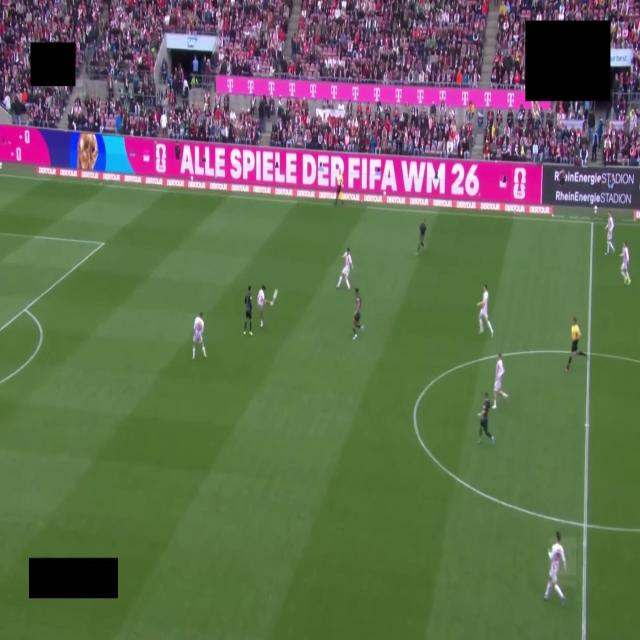ball: (270, 289, 278, 305)
player: (544, 532, 566, 603), (493, 353, 508, 408), (478, 393, 494, 442), (478, 285, 493, 336), (192, 312, 206, 359), (337, 248, 353, 289), (257, 285, 270, 327), (353, 288, 363, 339), (244, 286, 252, 335), (621, 241, 630, 284), (416, 219, 426, 255), (606, 213, 614, 255)
referee: (566, 318, 586, 370)
